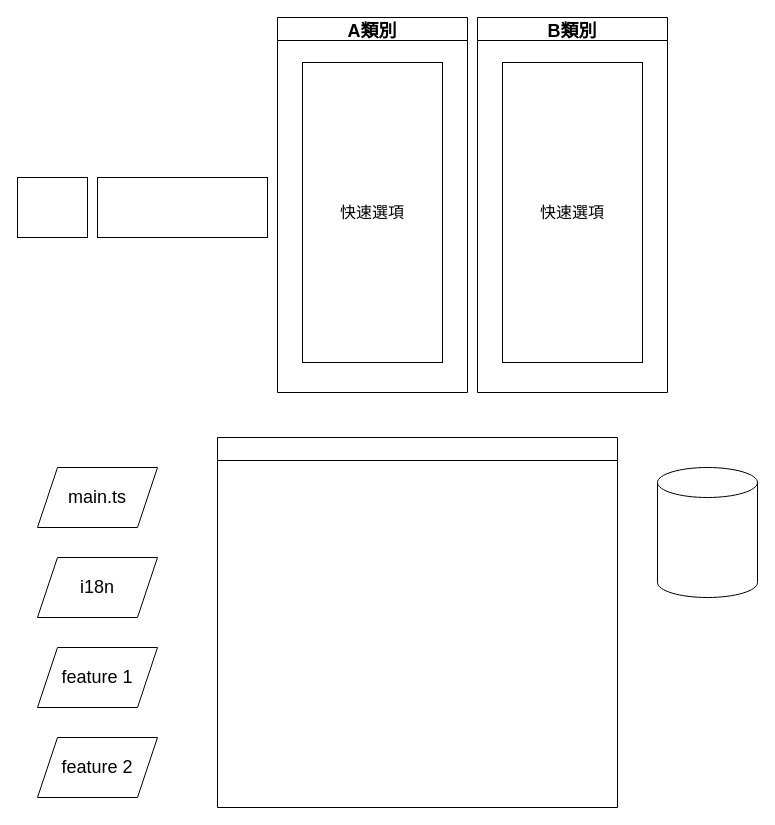
Some shapes in this 775 by 825 pixel diagram are drawn without their labels. The shapes that lost their labels are listed below. From the top down, each one's box as (x1, y1, x2, y2) in pixels, then its label:
(16, 176, 88, 238): 設定
(96, 176, 268, 238): 觸發
(656, 466, 758, 598): 設定內容
(216, 436, 618, 808): 設定頁面
